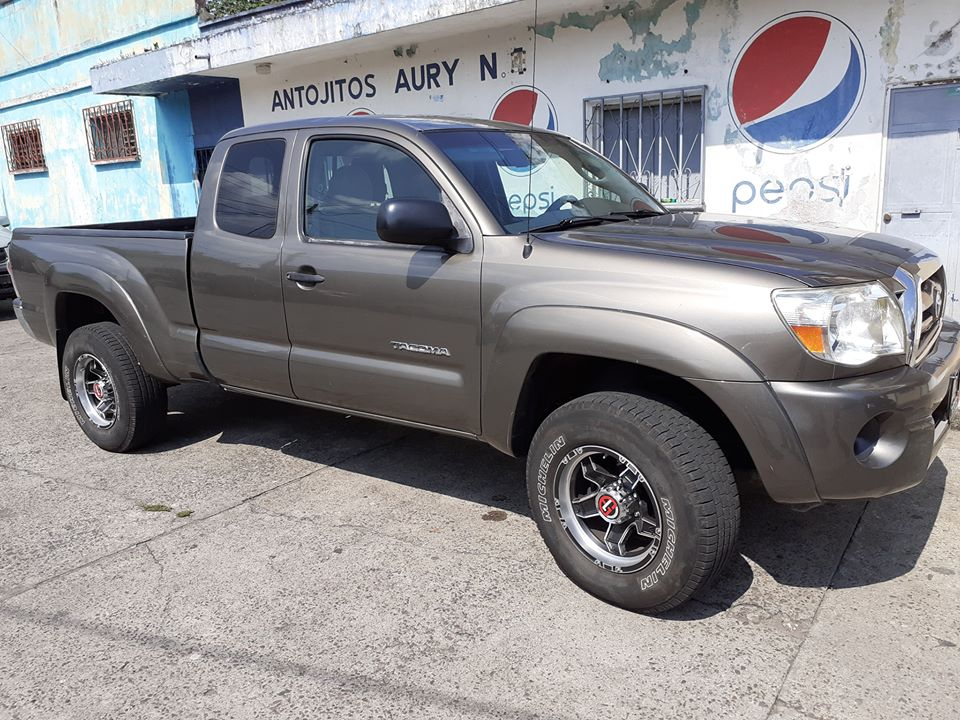pickup: (7, 111, 960, 617)
